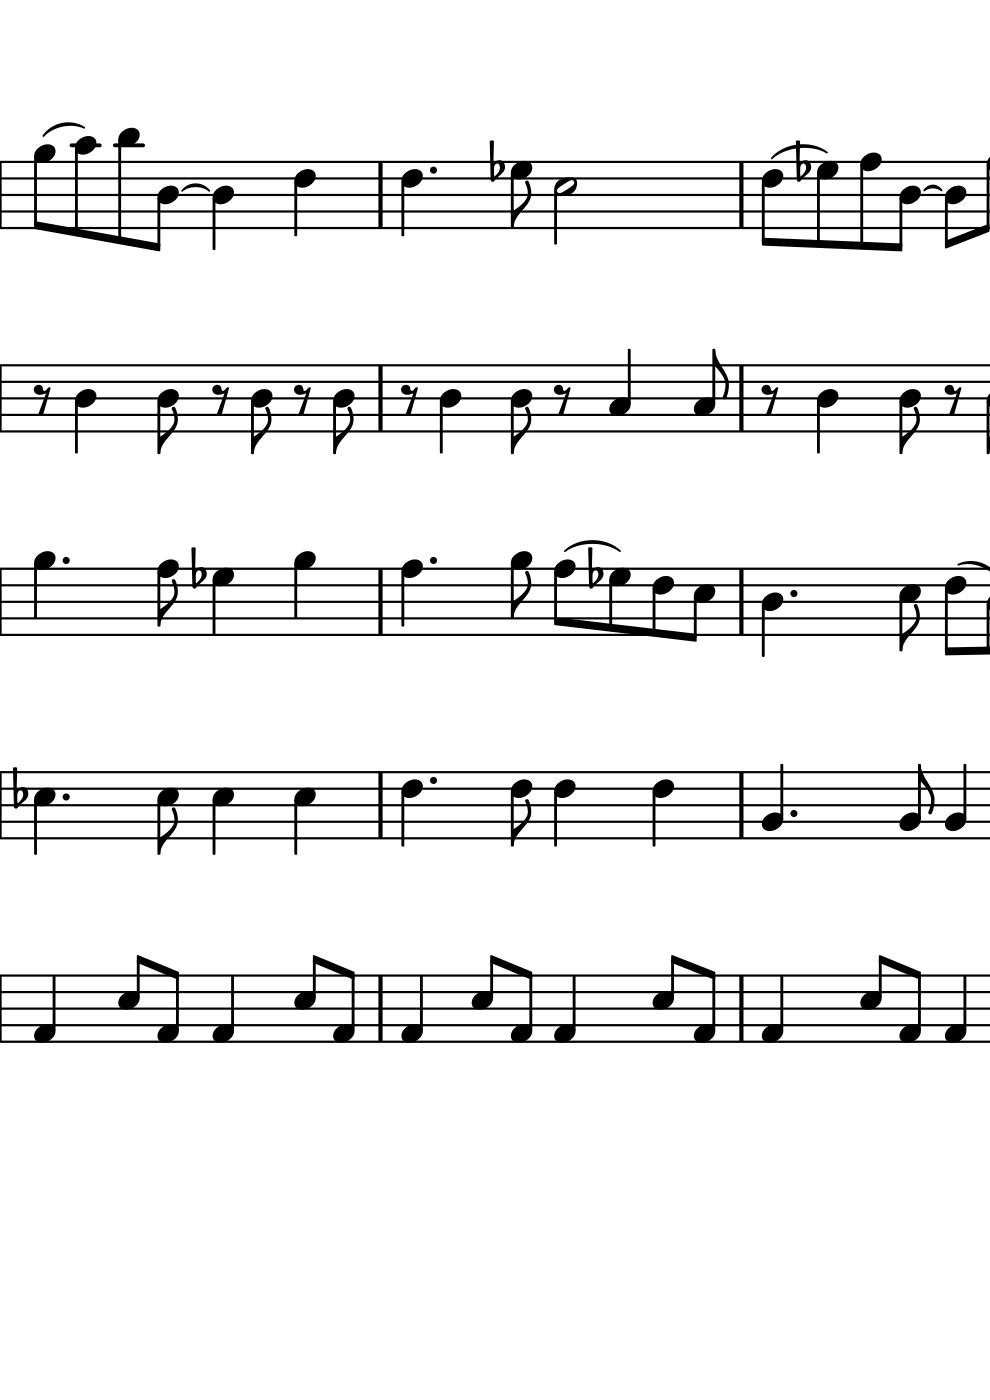2_5: (550, 159, 577, 249)
4_1: (397, 973, 425, 1047), (760, 973, 786, 1047), (32, 973, 58, 1047), (210, 973, 235, 1047), (944, 973, 969, 1047)
4_2: (759, 762, 786, 841), (943, 762, 967, 839)
4_3: (607, 347, 634, 433)
4_4: (208, 160, 235, 253), (759, 566, 784, 662), (72, 363, 97, 457), (813, 362, 839, 455), (437, 363, 462, 460)
4_5: (290, 769, 317, 857), (209, 770, 234, 857), (32, 770, 56, 857)
4_6: (290, 160, 318, 241), (397, 160, 424, 239), (648, 771, 674, 850), (399, 770, 423, 850), (552, 770, 576, 846)
4_7: (210, 566, 236, 638)
4_8: (399, 559, 422, 638)
4_9: (291, 550, 319, 638), (33, 550, 56, 637)
8_1: (154, 968, 181, 1045), (690, 967, 716, 1047), (330, 967, 356, 1045), (509, 966, 534, 1045), (897, 967, 922, 1042), (552, 973, 577, 1045)
8_10: (70, 136, 102, 241)
8_11: (111, 127, 145, 247)
8_2: (900, 763, 936, 839)
8_3: (692, 347, 730, 434)
8_4: (147, 160, 181, 254), (888, 159, 921, 252), (506, 361, 535, 458), (895, 362, 922, 460), (153, 363, 181, 458), (246, 363, 274, 456), (329, 362, 355, 460), (942, 160, 967, 250)
8_5: (115, 954, 149, 1044), (291, 953, 325, 1044), (859, 954, 891, 1044), (651, 954, 682, 1043), (471, 955, 501, 1043), (152, 769, 180, 857), (686, 567, 718, 643), (896, 566, 922, 654)
8_6: (941, 568, 967, 658), (507, 769, 534, 850), (761, 161, 785, 249), (649, 567, 675, 639)
8_7: (813, 160, 841, 252), (507, 159, 532, 230), (606, 567, 632, 636)
8_8: (854, 151, 884, 252), (153, 559, 180, 637), (553, 559, 577, 638)
8_9: (506, 550, 534, 637), (31, 142, 56, 235)
Flat: (583, 543, 604, 592), (9, 766, 28, 810), (486, 140, 505, 186), (794, 140, 812, 183), (189, 546, 206, 589)
Rests8: (941, 379, 966, 417), (549, 379, 573, 417), (210, 383, 231, 417), (32, 382, 52, 417), (759, 383, 779, 417), (292, 383, 312, 417), (400, 383, 419, 416)
Single_barline: (730, 975, 750, 1042), (731, 568, 751, 635), (732, 161, 751, 228), (371, 976, 390, 1042), (372, 569, 391, 635), (372, 772, 391, 838), (732, 772, 751, 838), (731, 365, 749, 432), (372, 162, 390, 227), (374, 365, 388, 432)
Slur: (771, 140, 829, 160), (564, 539, 622, 555), (40, 121, 87, 139), (955, 560, 990, 574), (180, 184, 211, 194), (922, 185, 945, 194)
dot: (426, 773, 440, 788), (59, 791, 72, 804), (787, 807, 800, 821), (785, 589, 800, 601), (426, 165, 439, 178), (426, 554, 439, 567), (59, 554, 72, 567)
